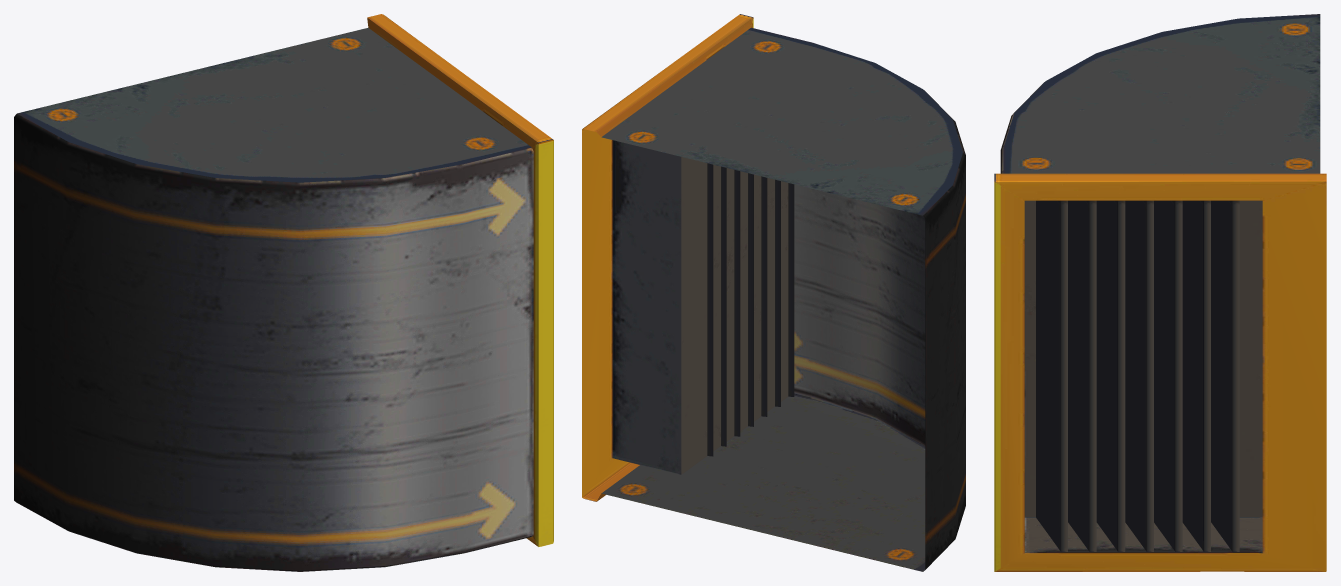
Rendered from trap_013_blower.glb.
The picture shows the model from 3 angles, left to right: view 1: azimuth 30°, elevation 25°; view 2: azimuth 150°, elevation 25°; view 3: azimuth 270°, elevation 25°; orthographic projection. The views are drawn at different scales.
Parts seen in each view (by area): view 1: S_wind_device; view 2: S_wind_device; view 3: S_wind_device.
Boxes of the visible parts, bbox=[...] form: S_wind_device: bbox=[14, 14, 553, 571]; S_wind_device: bbox=[582, 14, 965, 571]; S_wind_device: bbox=[994, 14, 1326, 571].
Bounding box in the file's own units: 0.7681 × 0.7975 × 0.6136.
Materials: 1 (1 with a texture image).
